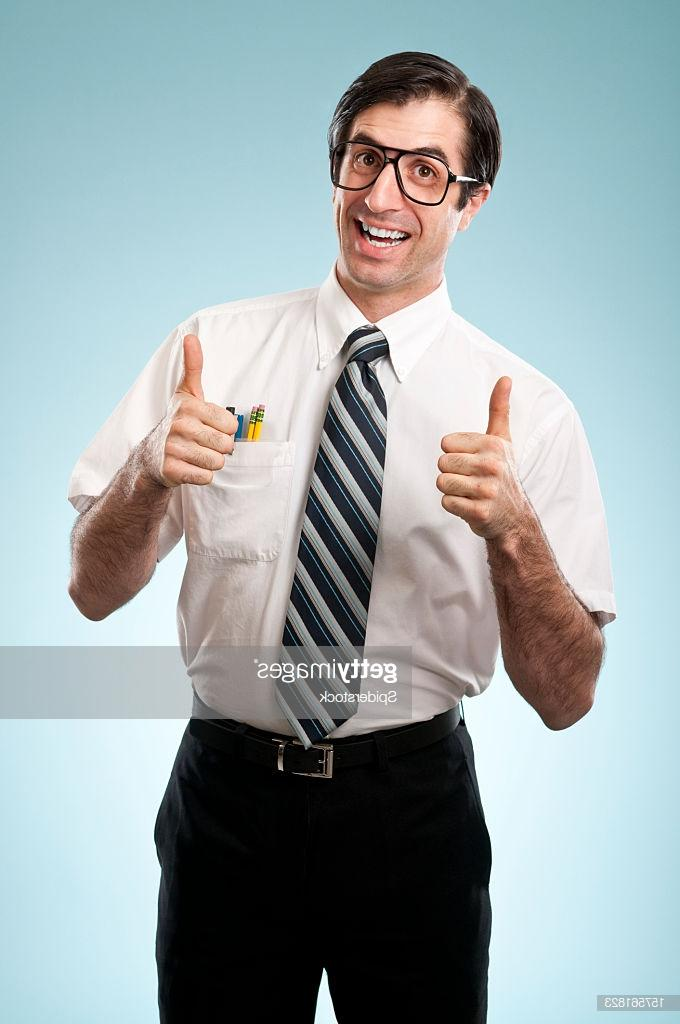thumbsup: (161, 333, 240, 487), (436, 374, 516, 522)
